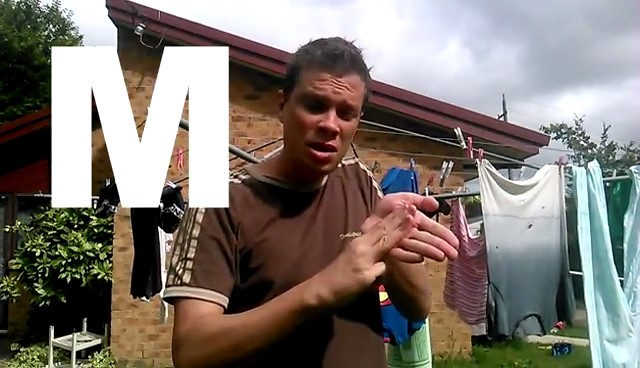M: (312, 189, 471, 307)
